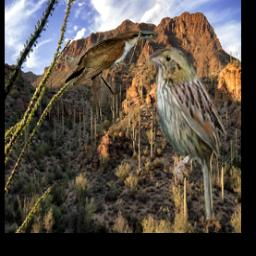Cuckoo: (66, 32, 157, 123)
Sparrow: (147, 47, 226, 221)
